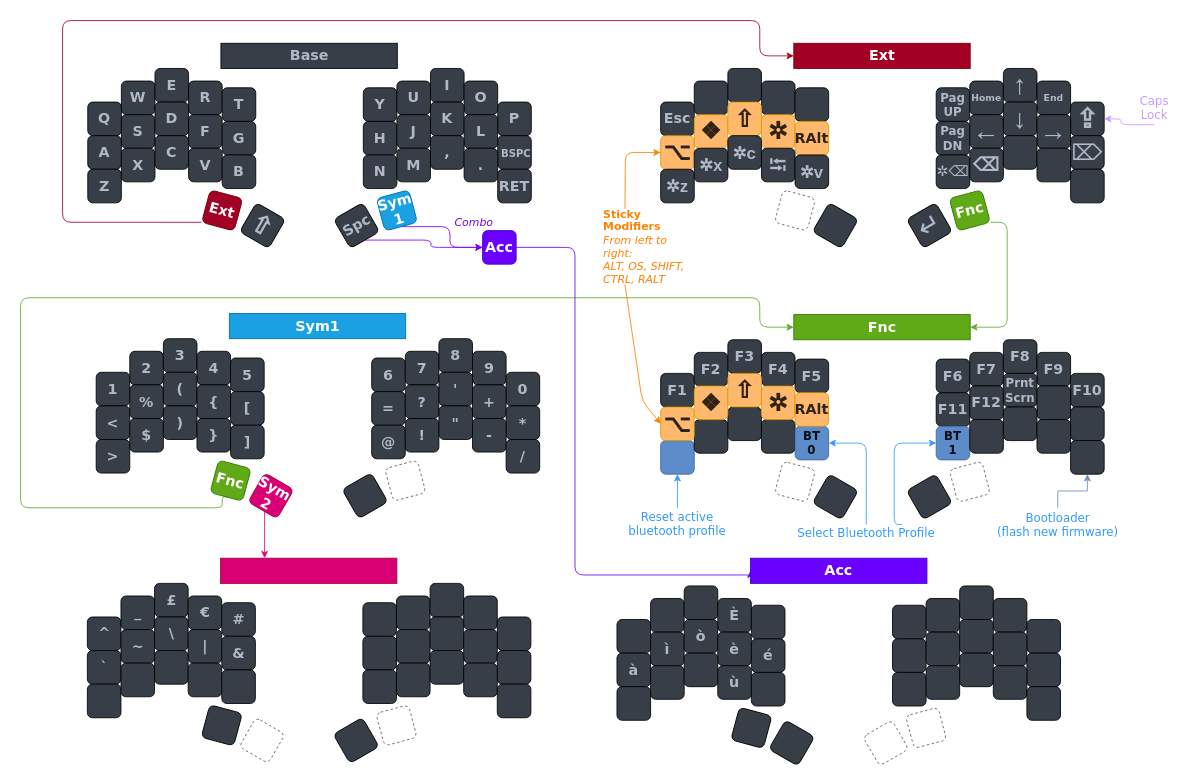
Some shapes in this 1186 by 781 pixel diagram are drawn without their labels. The box of each missing label's shape, as (x1, y1, x2, y2) in pixels:
BL: (1070, 440, 1104, 474)
BT RES: (660, 440, 694, 474)
Sym2: (220, 557, 397, 583)
